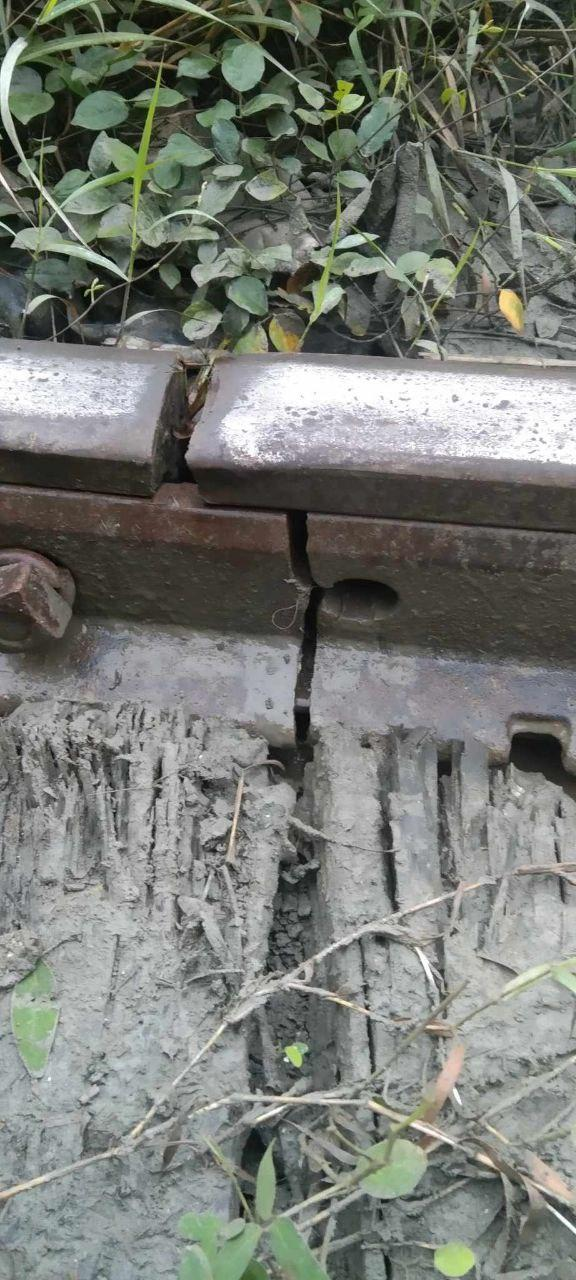railway-gap: (52, 280, 293, 555), (236, 492, 367, 750)
